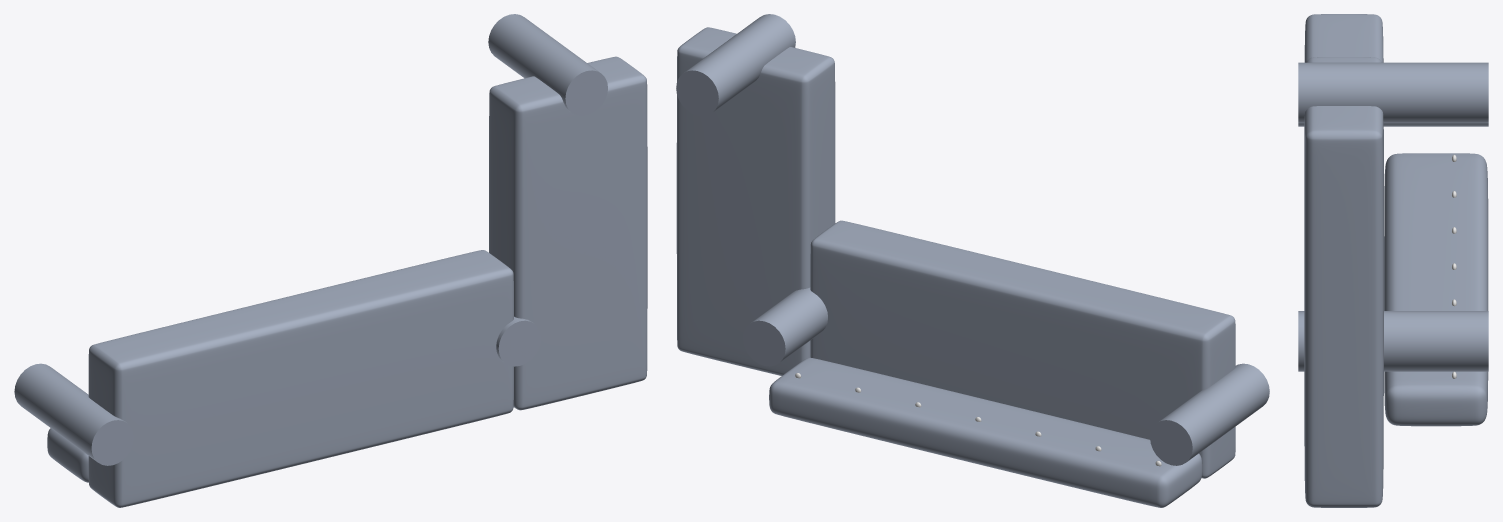
File: lounge_sofa.glb
The picture shows the model from 3 angles, left to right: view 1: azimuth 30°, elevation 25°; view 2: azimuth 150°, elevation 25°; view 3: azimuth 270°, elevation 25°; orthographic projection. The views are drawn at different scales.
Visible parts, largest first — view 1: MainSeat, Chaise, ArmL, ChaiseFront, ArmR, Backrest; view 2: MainSeat, Chaise, Backrest, ArmL, ChaiseFront, ArmR; view 3: Chaise, Backrest, ChaiseFront, ArmR, MainSeat, ArmL.
Boxes of the visible parts, left/top/right/bottom form: MainSeat: left=88, top=250, right=513, bottom=507; Chaise: left=489, top=56, right=647, bottom=410; ArmL: left=14, top=363, right=134, bottom=465; ChaiseFront: left=488, top=14, right=607, bottom=116; ArmR: left=496, top=316, right=541, bottom=366; Backrest: left=47, top=428, right=88, bottom=482; MainSeat: left=810, top=220, right=1235, bottom=478; Chaise: left=676, top=27, right=835, bottom=375; Backrest: left=769, top=357, right=1202, bottom=507; ArmL: left=1150, top=363, right=1269, bottom=465; ChaiseFront: left=676, top=14, right=795, bottom=116; ArmR: left=743, top=287, right=827, bottom=366; Chaise: left=1304, top=57, right=1383, bottom=507; Backrest: left=1384, top=153, right=1488, bottom=426; ChaiseFront: left=1298, top=62, right=1488, bottom=123; ArmR: left=1298, top=311, right=1488, bottom=371; MainSeat: left=1304, top=14, right=1383, bottom=168; ArmL: left=1298, top=123, right=1488, bottom=126.
Size of the model in its own units: 4.21 by 2.36 by 1.
